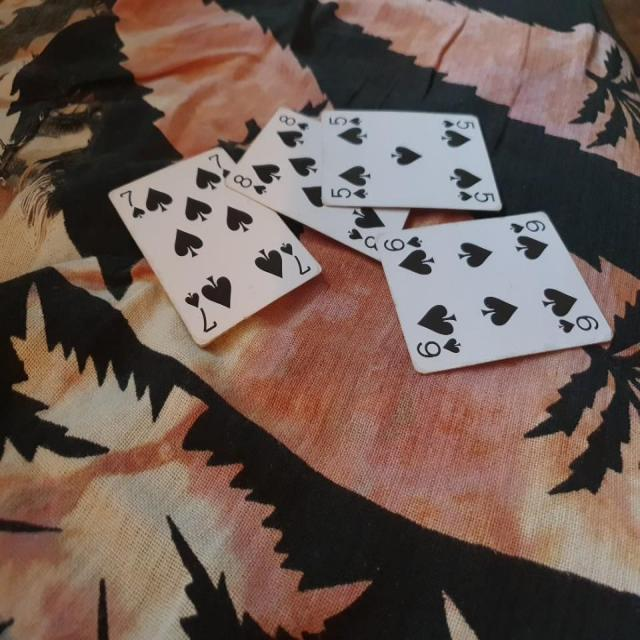5 Spades: (316, 100, 508, 218)
6 Spades: (367, 204, 616, 383)
7 Spades: (101, 140, 330, 356)
8 Spades: (227, 100, 415, 278)
